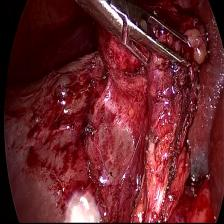Grasper: (103, 0, 195, 80)
